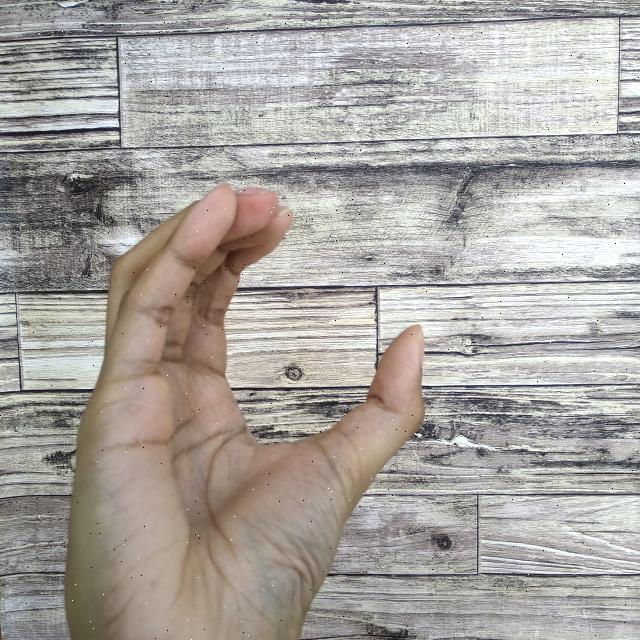C: (61, 182, 432, 640)
